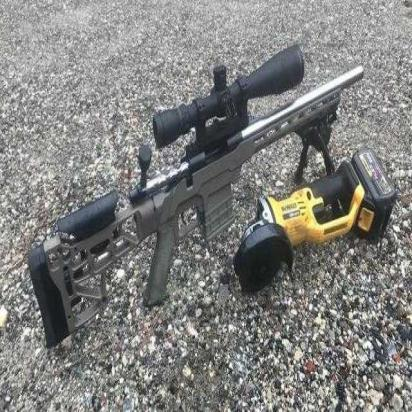Gun: (26, 40, 370, 353)
